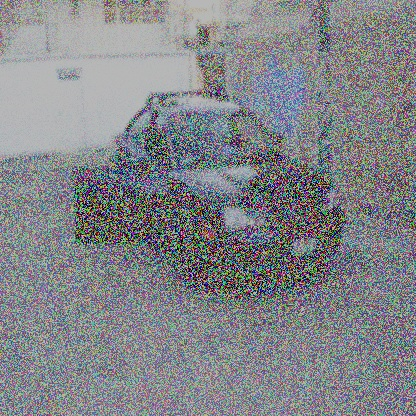Vehicle: (69, 85, 344, 289)
